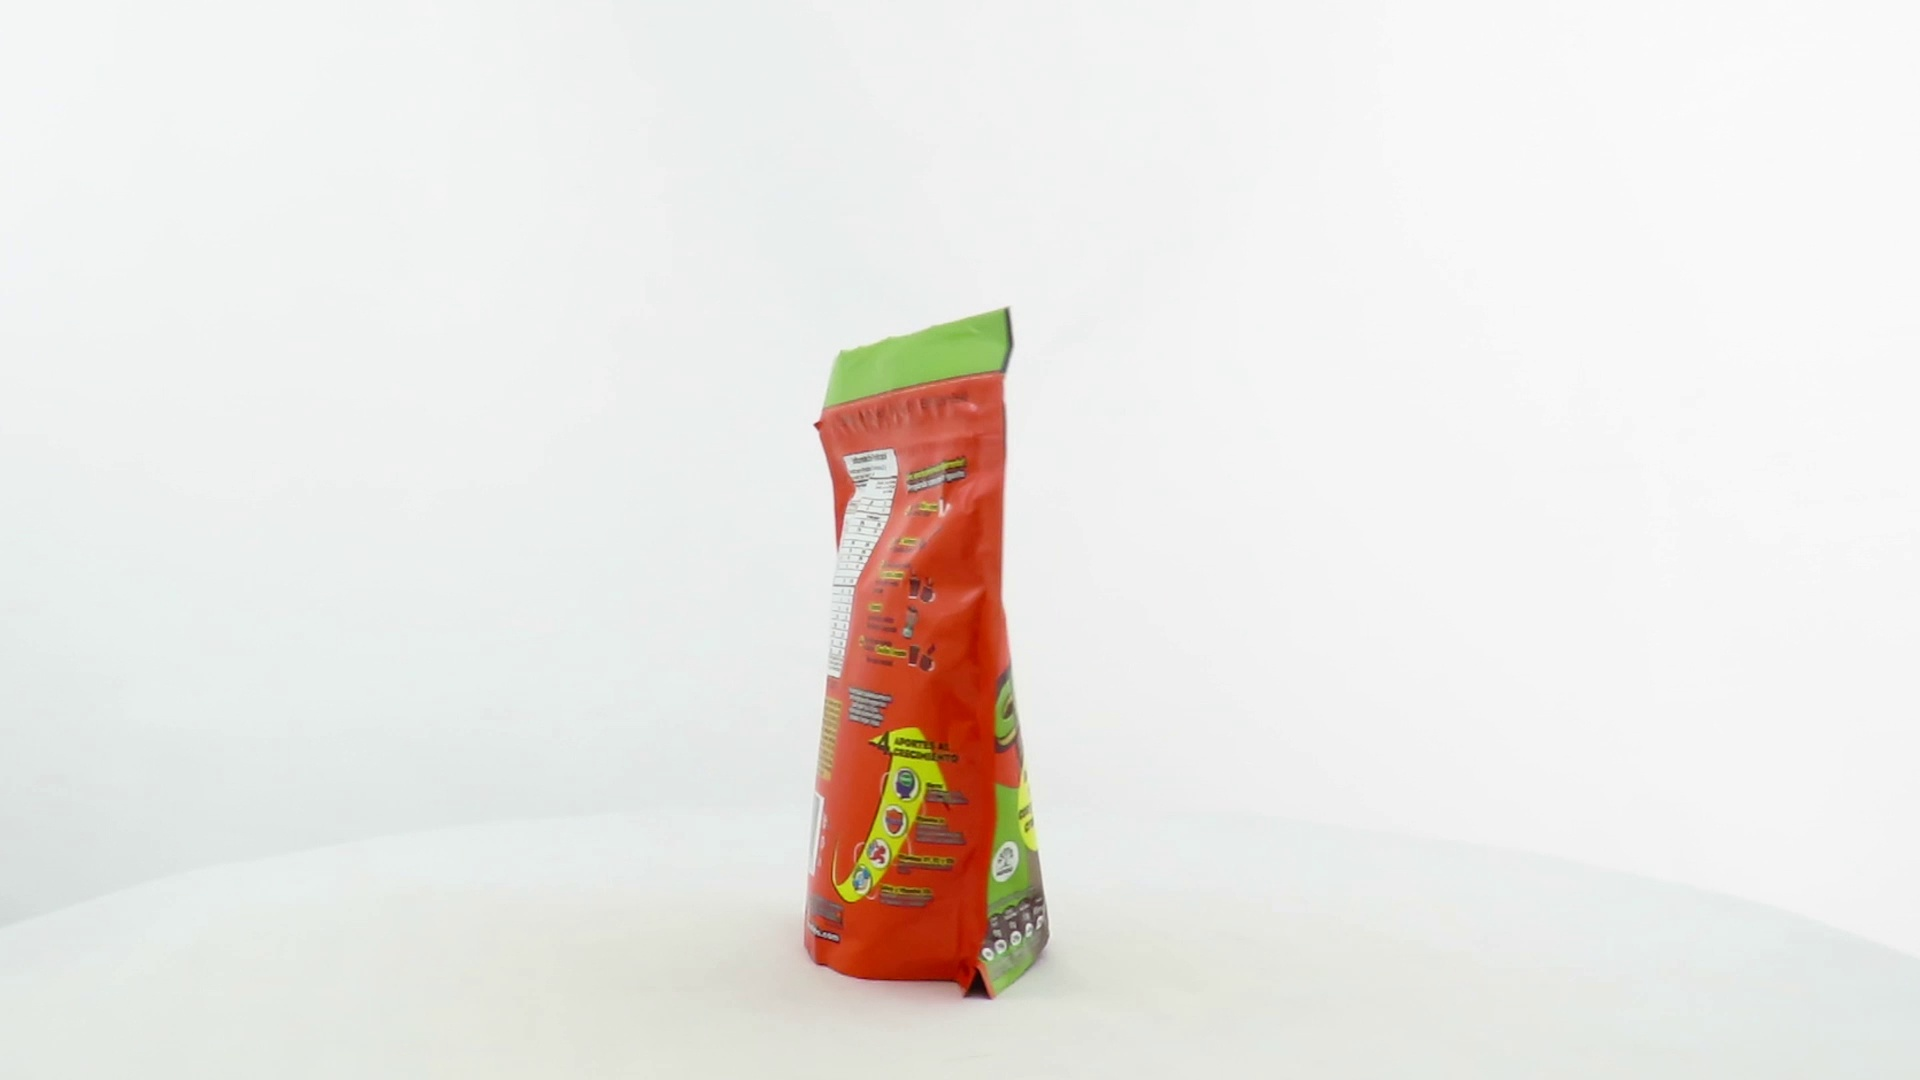COL0170102DYP10000: (799, 301, 1056, 1006)
